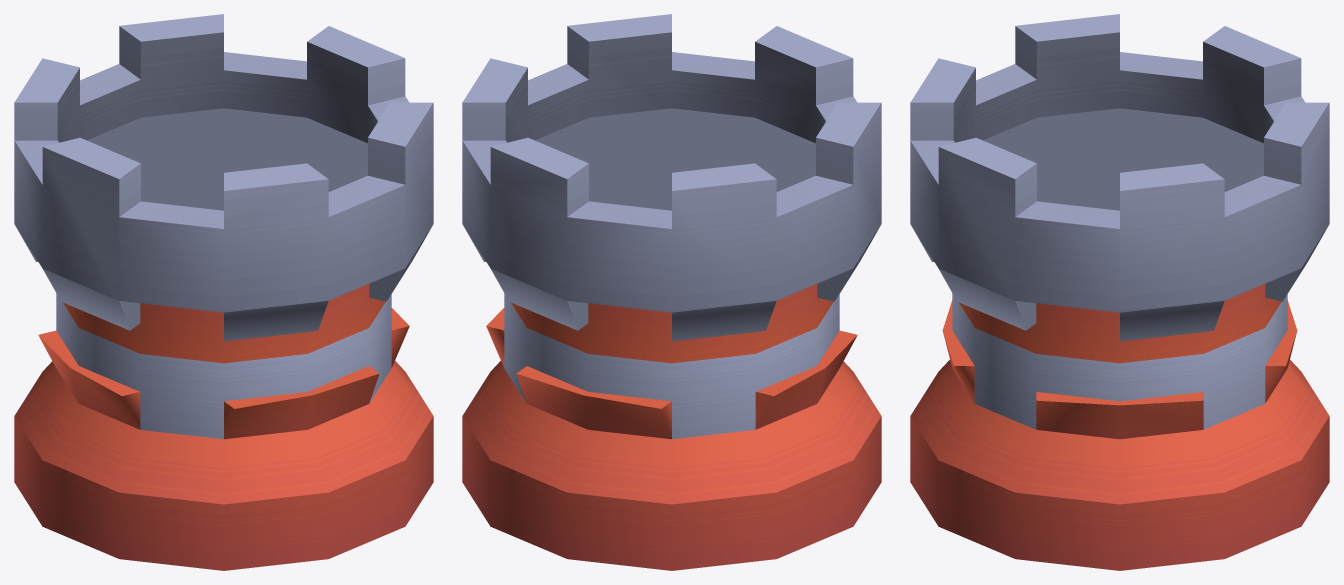
Rendered from tower-defense-kit--tower-round-build-c.glb.
3 views of the same model, side by side, from view 1: azimuth 30°, elevation 25°; view 2: azimuth 150°, elevation 25°; view 3: azimuth 270°, elevation 25° (orthographic).
Parts seen in each view (by area): view 1: tower-round-build-c; view 2: tower-round-build-c; view 3: tower-round-build-c.
Boxes of the visible parts, left/top/right/bottom form: tower-round-build-c: left=14, top=14, right=433, bottom=570; tower-round-build-c: left=462, top=14, right=881, bottom=570; tower-round-build-c: left=910, top=14, right=1329, bottom=570.
Bounding box in the file's own units: 1 × 1 × 1.
1 material, 1 textured.
